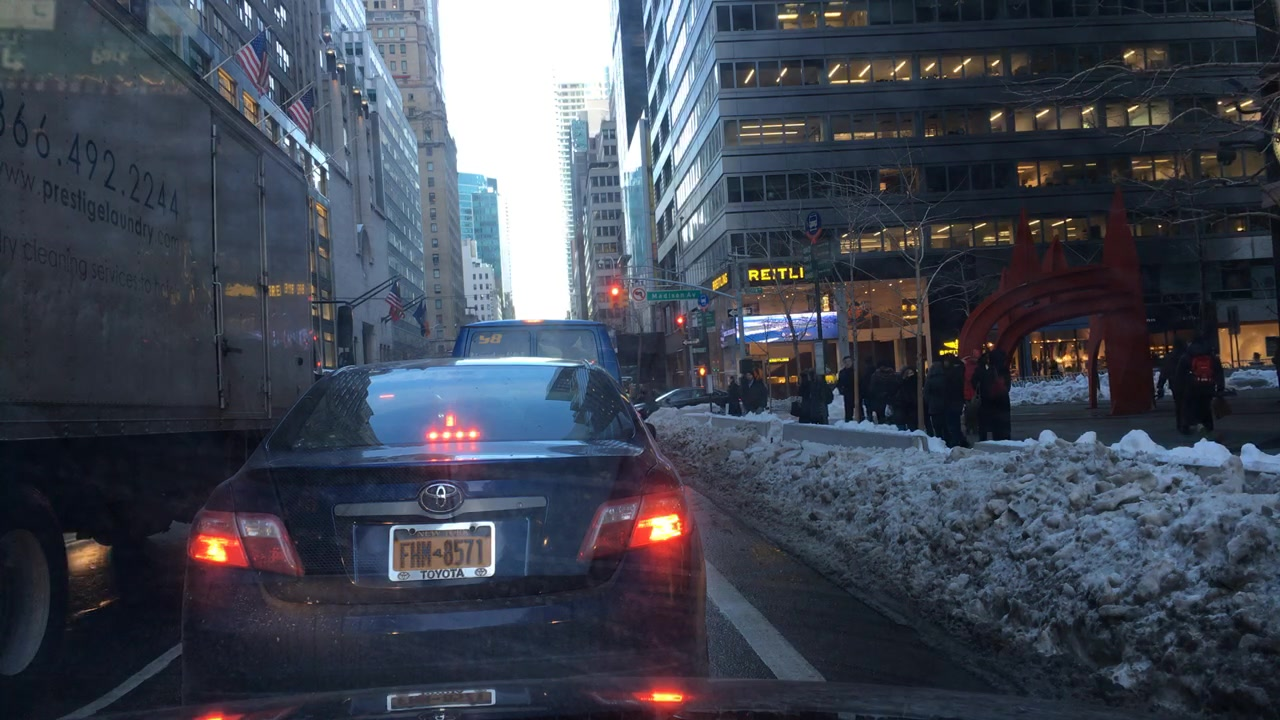licence: (387, 520, 496, 582)
